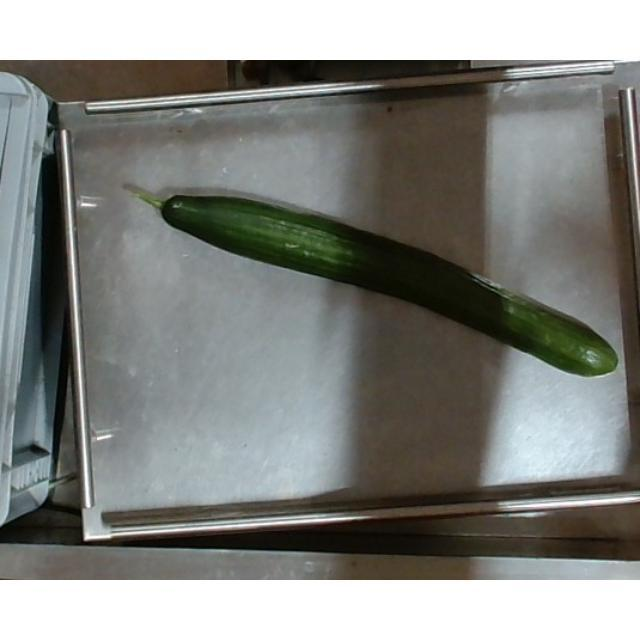cucumber: (119, 180, 619, 380)
